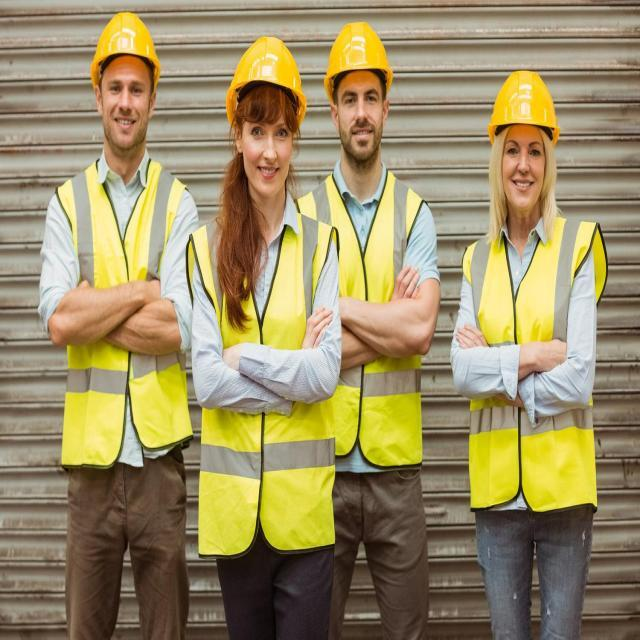reflective_jacket: (191, 212, 338, 559), (459, 215, 603, 513), (55, 162, 194, 462), (316, 170, 425, 470)
safety_helmet: (224, 32, 309, 108), (488, 65, 561, 138), (322, 18, 393, 87), (89, 8, 162, 74)
